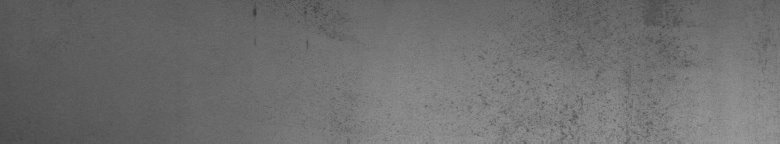ib: (464, 4, 692, 136)
